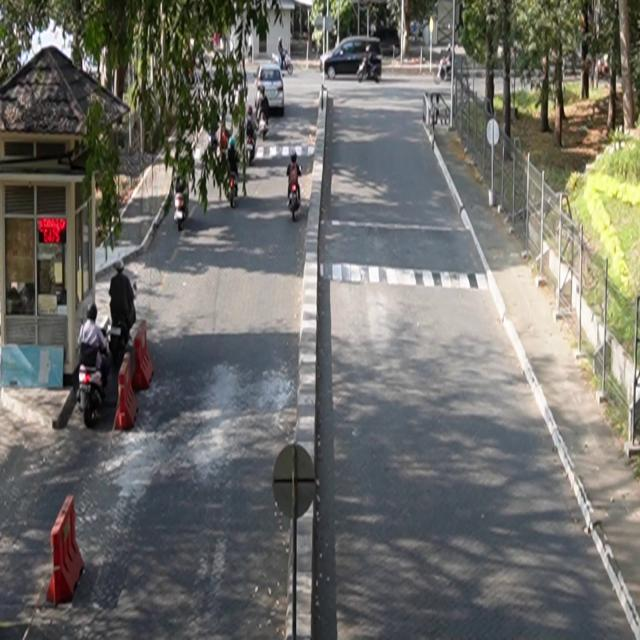car: (255, 63, 285, 117)
